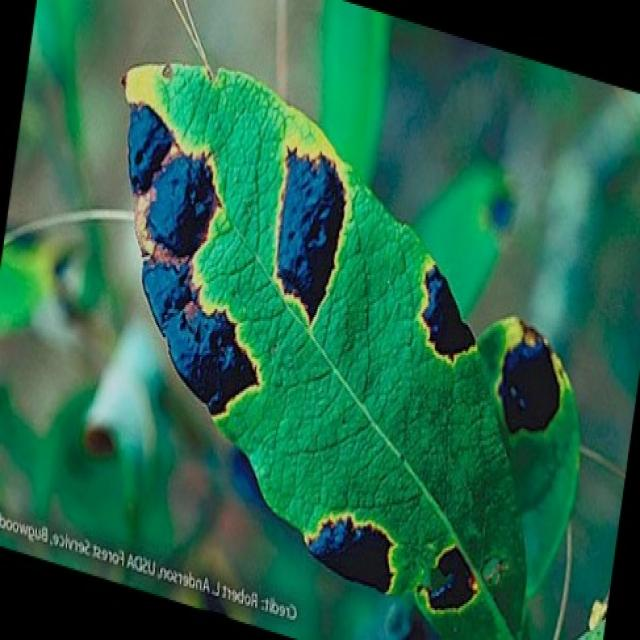Tar_Spot: (110, 74, 538, 624)
